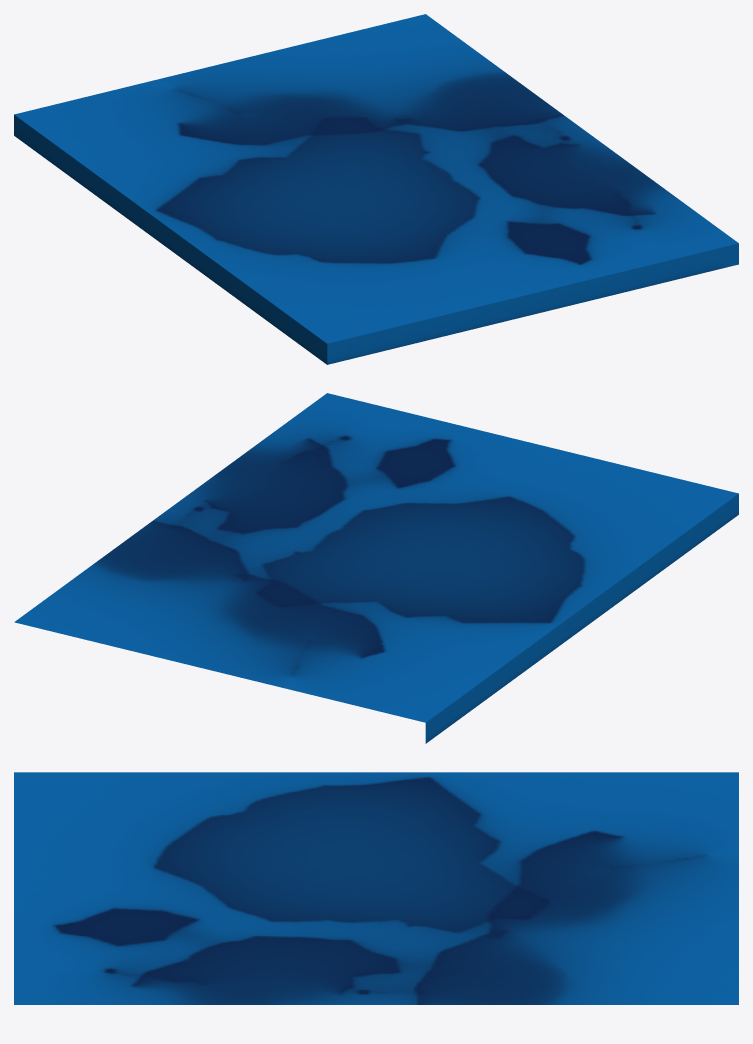
The model's file is Water_01.FBX.
3 views of the same model, one above another, from view 1: azimuth 30°, elevation 25°; view 2: azimuth 150°, elevation 25°; view 3: azimuth 270°, elevation 25° (orthographic). The views are drawn at different scales.
Parts seen in each view (by area): view 1: Water_01; view 2: Water_01; view 3: Water_01.
Part boxes in pixels (bbox=[...]): Water_01: bbox=[14, 14, 738, 364]; Water_01: bbox=[14, 393, 738, 743]; Water_01: bbox=[14, 772, 738, 1004].
Size of the model in its own units: 44.8 by 2.2 by 59.02.
